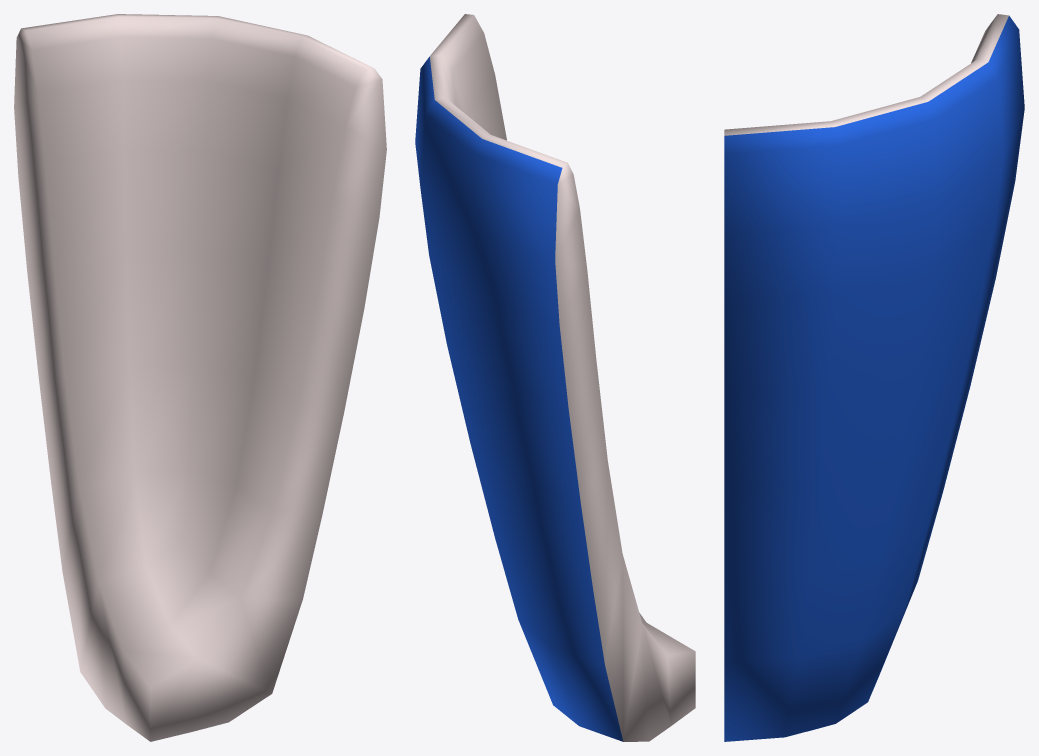
File: Cup01_Part02.fbx
The picture shows the model from 3 angles, left to right: view 1: azimuth 30°, elevation 25°; view 2: azimuth 150°, elevation 25°; view 3: azimuth 270°, elevation 25°; orthographic projection. The views are drawn at different scales.
Parts seen in each view (by area): view 1: Cup01_Part_02; view 2: Cup01_Part_02; view 3: Cup01_Part_02.
Part boxes in pixels (x1,y1,x2,y2): Cup01_Part_02: (14, 14, 386, 741); Cup01_Part_02: (415, 14, 695, 741); Cup01_Part_02: (724, 14, 1024, 741).
Bounding box in the file's own units: 156 × 392 × 156.
